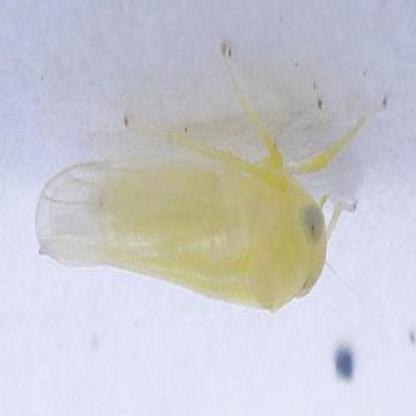green-leafhopper: (32, 143, 328, 306)
